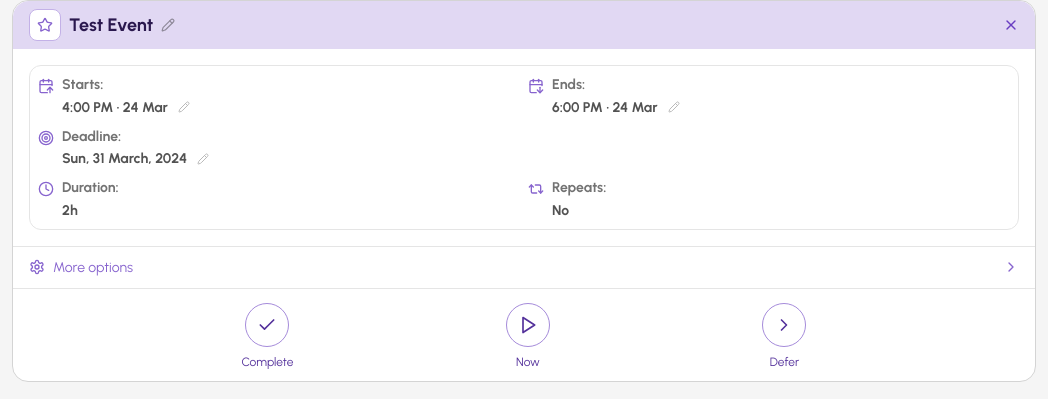
it: CalendarEventInfo – Action Buttons › Defer action › hides duration picker when cancel is clicked
Note: Open picker
Click the button titled "Defer".
click(784, 337)  # box [762,303,806,371]
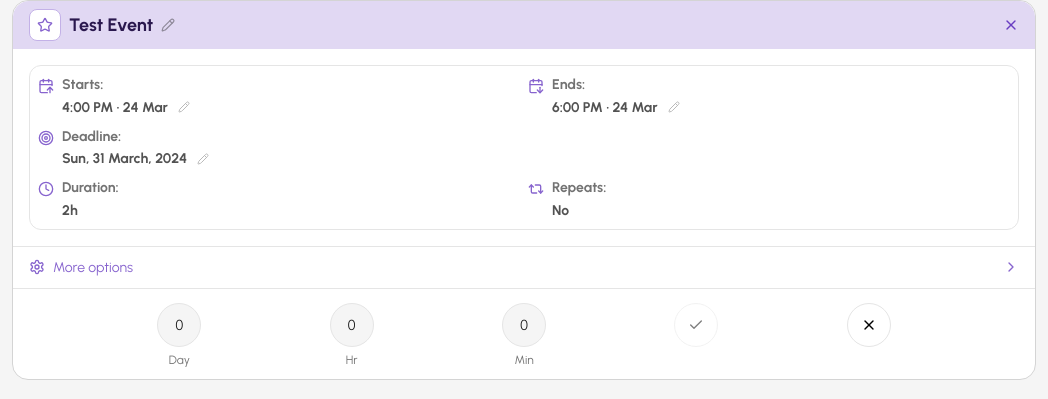
Expected: the number field named "Days" is shown, [157,303,201,347]
Click the button named "Cancel".
click(869, 325)  # box [847,303,891,347]
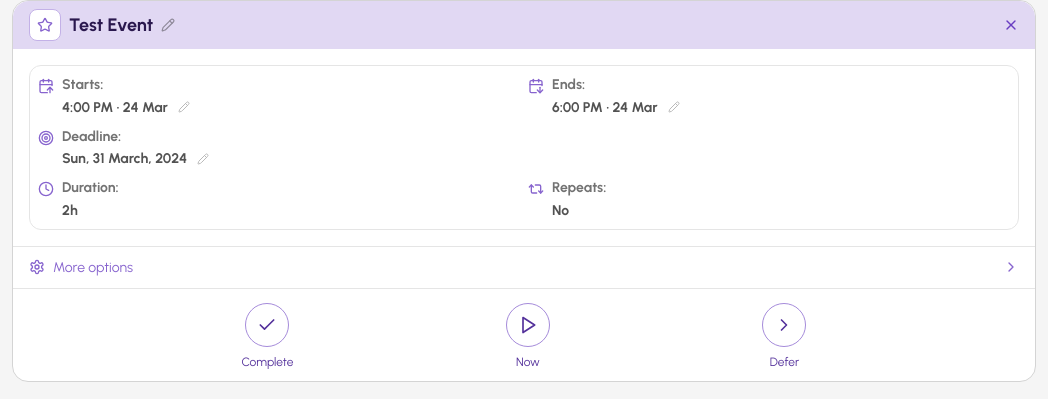
Expected: the button titled "Complete" is shown, [242,303,294,371]
Expected: the number field labelled "Days" is gone
